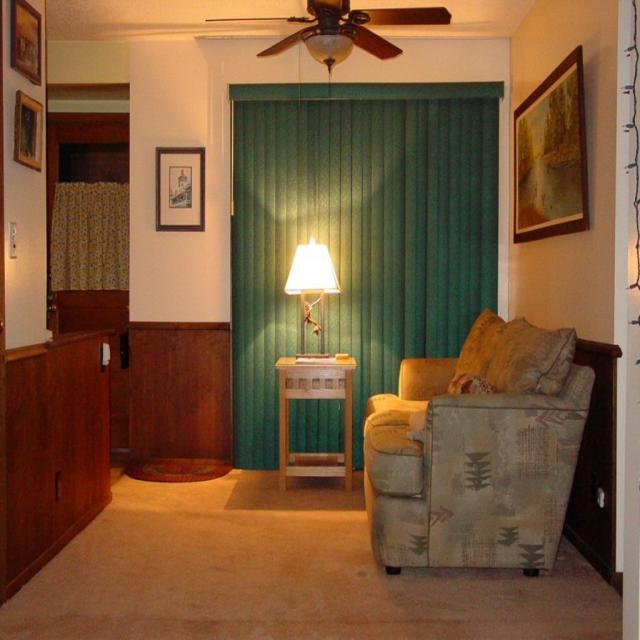fan_off: (203, 0, 452, 66)
